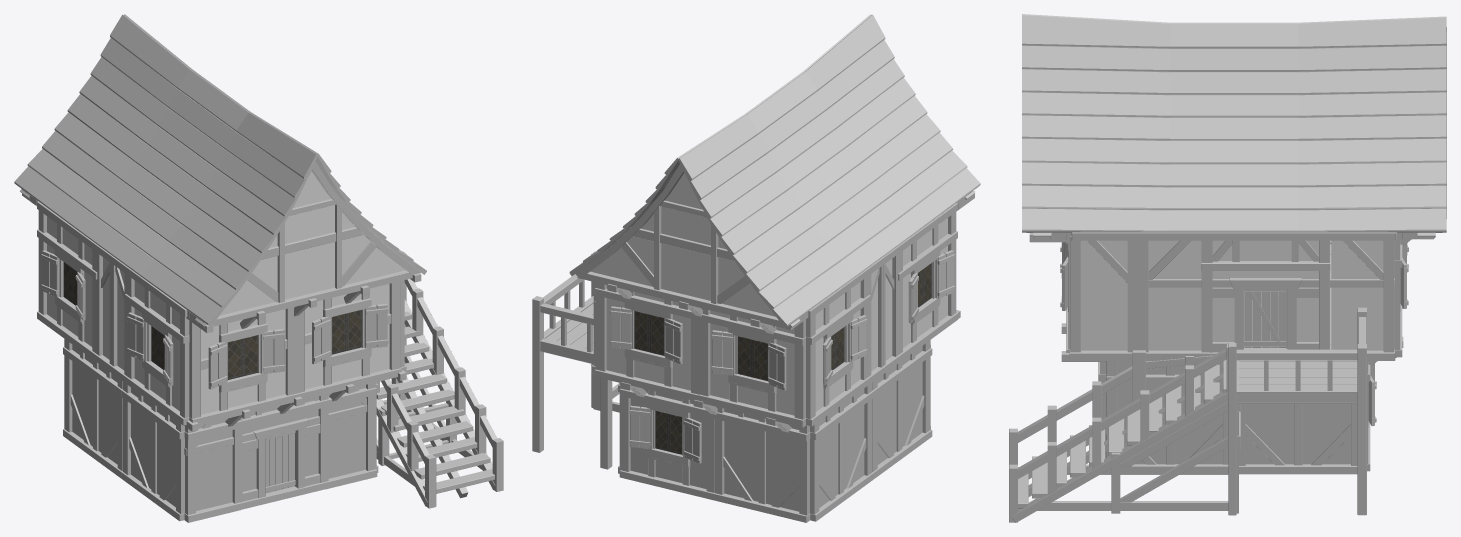
Rendered from House_1A12.fbx.
3 views of the same model, side by side, from view 1: azimuth 30°, elevation 25°; view 2: azimuth 150°, elevation 25°; view 3: azimuth 270°, elevation 25° (orthographic). The views are drawn at different scales.
Visible parts, largest first — view 1: House_1A12, Cube.2357, Plane.357, Plane.356; view 2: House_1A12, Plane.332, Plane.333, Plane.331; view 3: House_1A12, Cube.2360.
Boxes of the visible parts, x1,y1,x2,y2 form: House_1A12: [14, 14, 503, 522]; Cube.2357: [265, 431, 295, 493]; Plane.357: [332, 310, 361, 354]; Plane.356: [228, 335, 257, 379]; House_1A12: [532, 14, 980, 522]; Plane.332: [737, 336, 767, 381]; Plane.333: [634, 311, 664, 355]; Plane.331: [655, 410, 682, 454]; House_1A12: [1009, 14, 1446, 522]; Cube.2360: [1244, 288, 1287, 348].
Bounding box in the file's own units: 1268 × 1521 × 1465.
